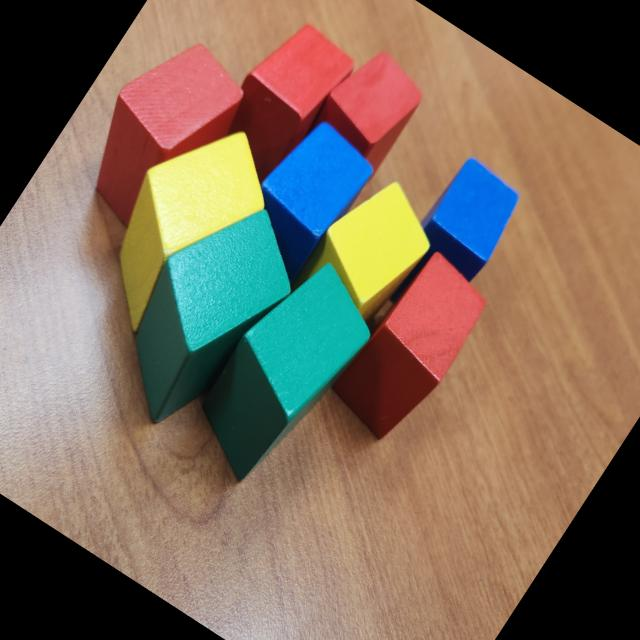blue: (222, 110, 382, 292), (400, 150, 532, 292)
green: (85, 177, 322, 448), (172, 242, 398, 502)
red: (58, 18, 264, 247), (316, 242, 500, 454), (196, 8, 362, 197), (302, 37, 436, 180)
yellow: (70, 99, 294, 354), (290, 162, 450, 338)
